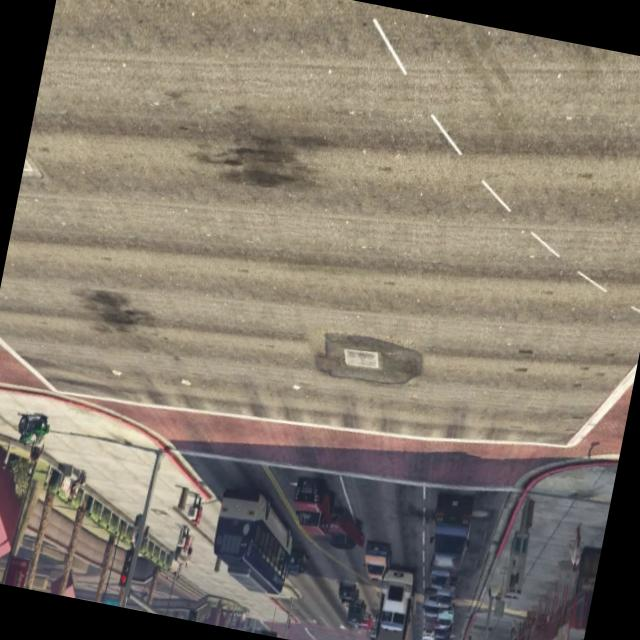Red-Signal: (115, 537, 138, 594), (184, 603, 202, 622)
